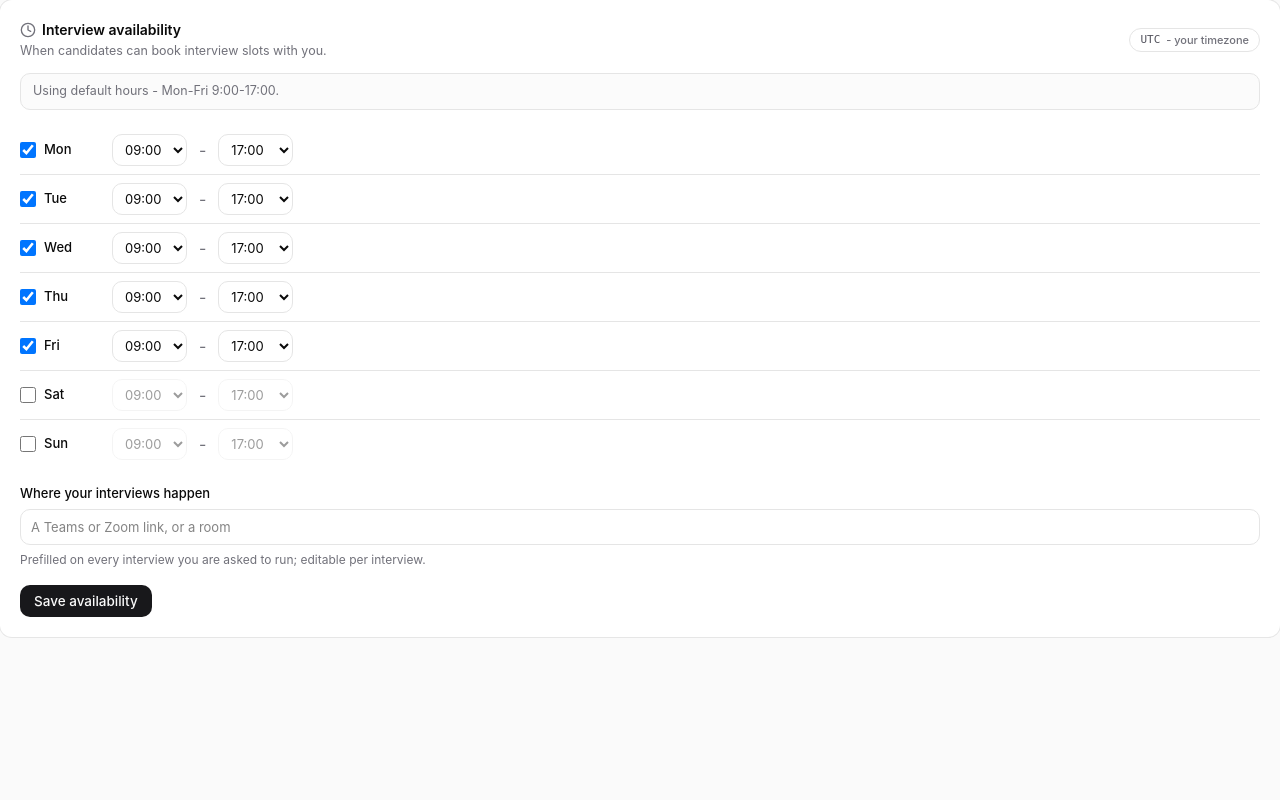
AvailabilityCard › disables Save and warns when an enabled day's start is not before its end
Check: the text "Using default hours - Mon-Fri 9:00-17:00." is shown, box [20,73,1260,110]
Step 1. Select "17:00" in the dropdown named "monday start" → (150, 150), box [112,134,187,166]
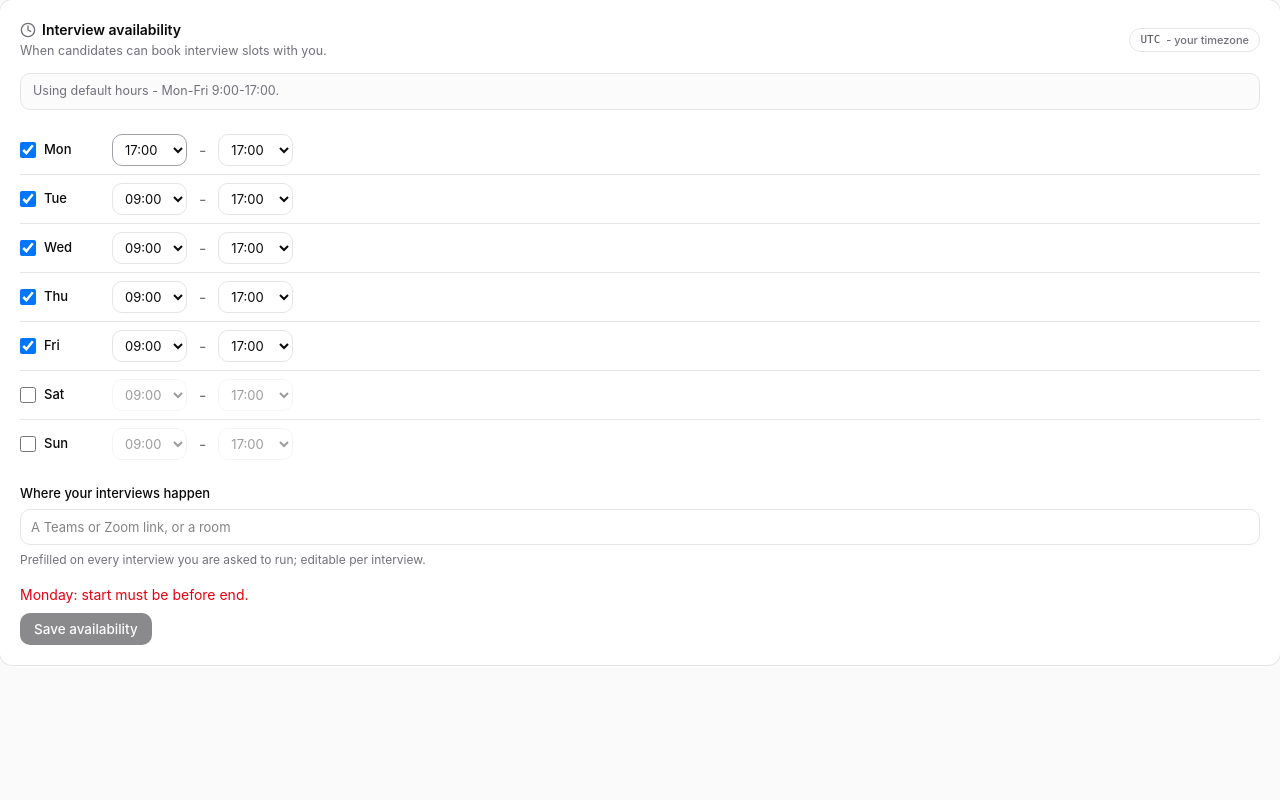
Check: the text "Monday: start must be before end." is shown, box [20,586,248,603]
Check: the button "Save availability" is disabled, box [20,613,152,645]
